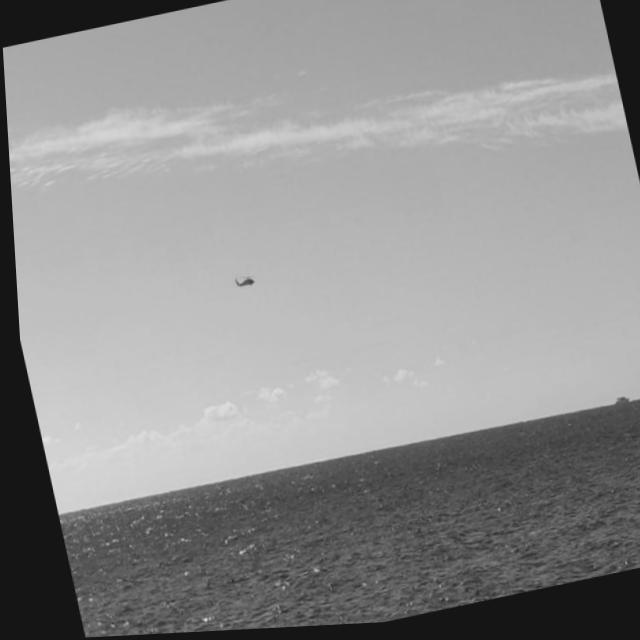helikopter: (203, 252, 269, 322)
